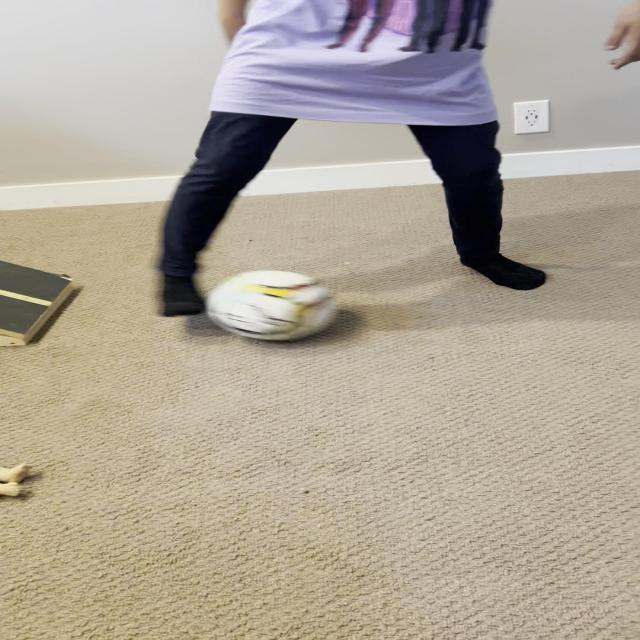Soccer Ball: (205, 270, 338, 340)
